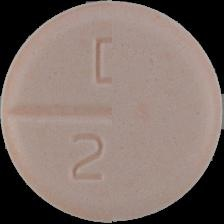65862-134: (0, 0, 224, 224)
